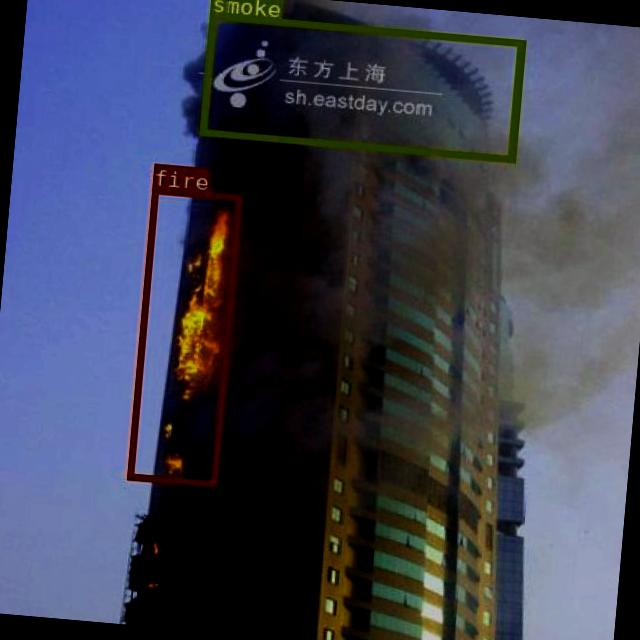fire: (124, 184, 241, 486)
smoke: (198, 11, 523, 160)
